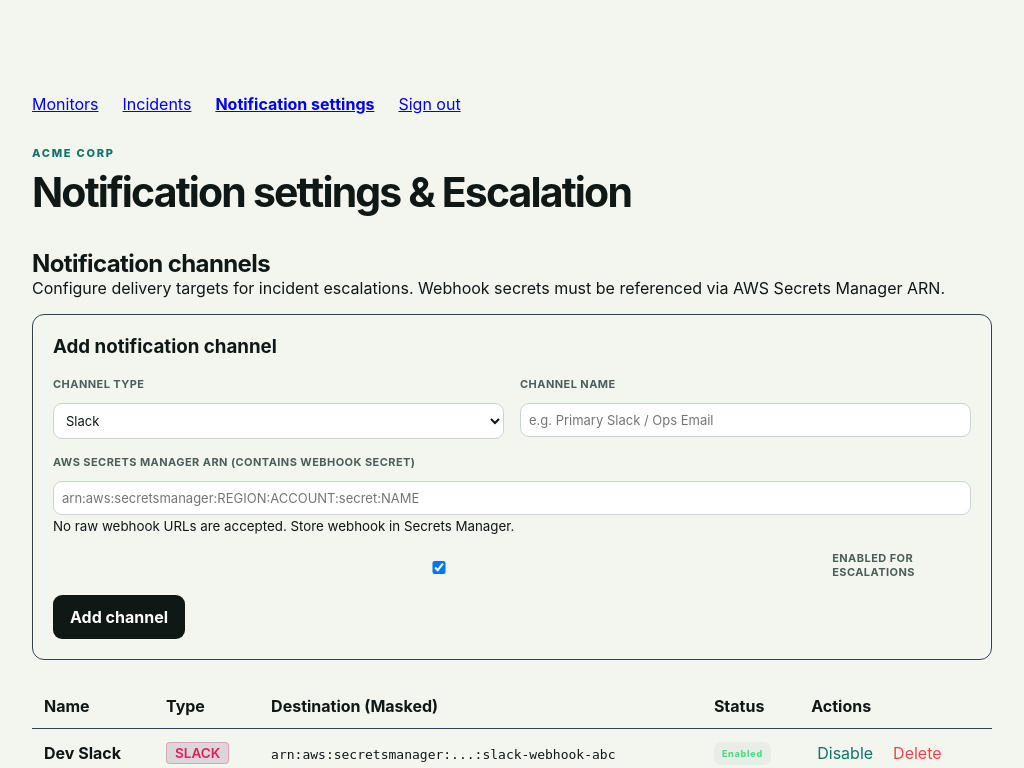
Test: NotificationSettingsPage › shows 409 conflict alert when attempting to delete channel in use
Click the button "Delete": (917, 753) [887,742,948,764]
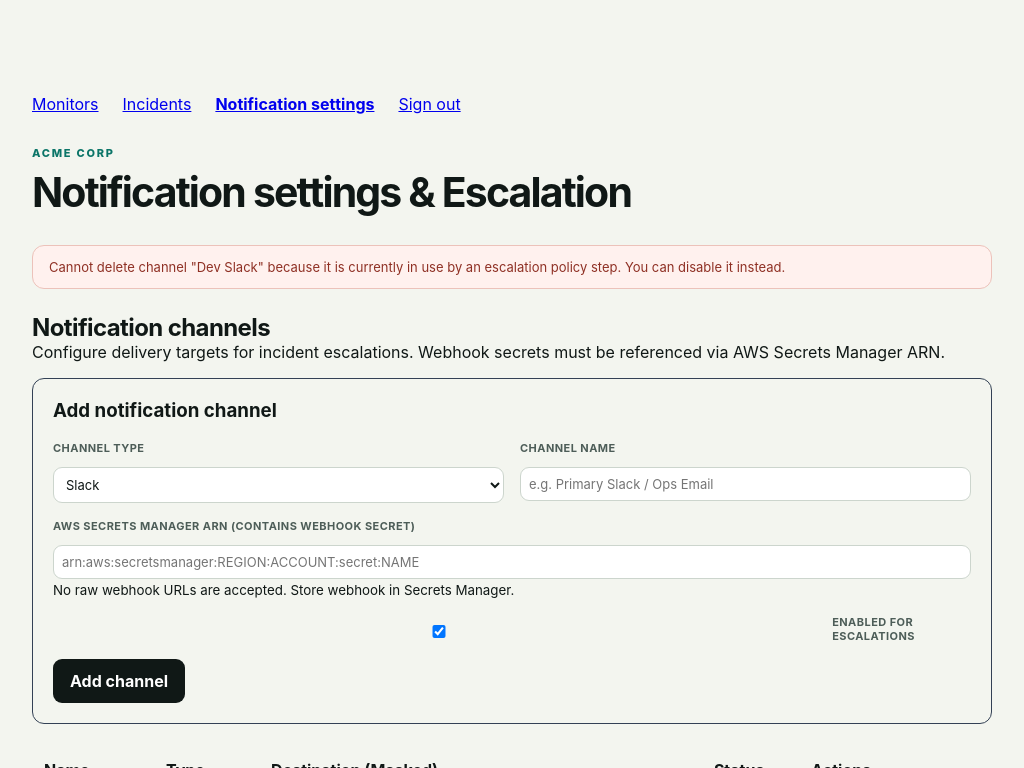
Check: the text "Cannot delete channel \"Dev Slack\" because it is currently in use" is shown, box [49,259,785,275]
